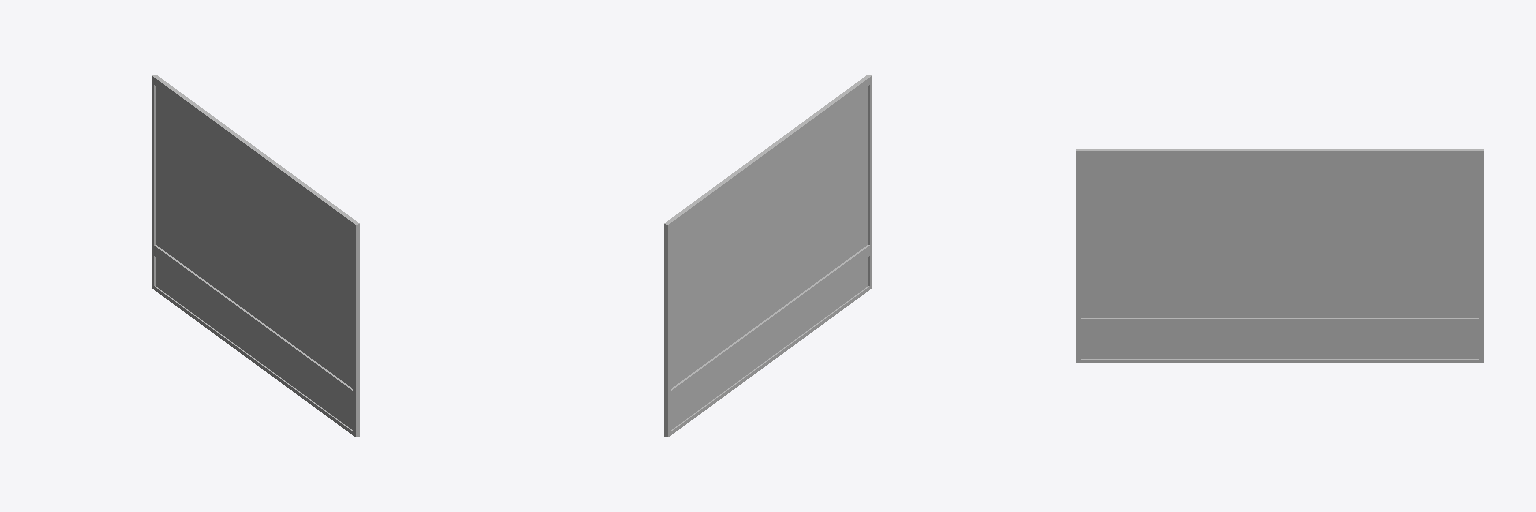
Rendered from WindowFrame .obj.
3 renders of one model, left to right at view 1: azimuth 30°, elevation 25°; view 2: azimuth 150°, elevation 25°; view 3: azimuth 270°, elevation 25°, orthographic.
Parts seen in each view (by area): view 1: polySurface36 polySurface1; view 2: polySurface36 polySurface1; view 3: polySurface36 polySurface1.
Boxes of the visible parts, <box> form: polySurface36 polySurface1: <box>152,75,359,436</box>; polySurface36 polySurface1: <box>664,75,871,436</box>; polySurface36 polySurface1: <box>1076,149,1483,362</box>.
Bounding box in the file's own units: 0.4092 × 18.65 × 32.46.